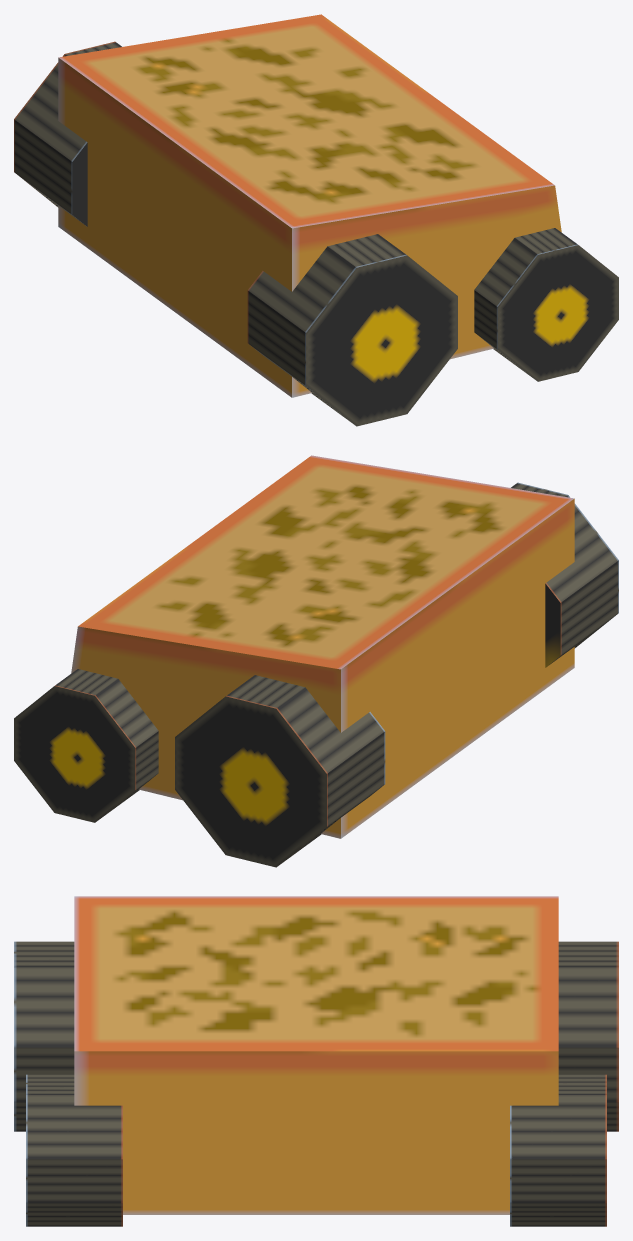
Rendered from Truck.obj.
3 views of the same model, one above another, from view 1: azimuth 30°, elevation 25°; view 2: azimuth 150°, elevation 25°; view 3: azimuth 270°, elevation 25° (orthographic). The views are drawn at different scales.
Parts seen in each view (by area): view 1: Truck; view 2: Truck; view 3: Truck.
Part boxes in pixels (x1=…): Truck: x1=14, y1=14, x2=618, y2=426; Truck: x1=14, y1=455, x2=618, y2=867; Truck: x1=14, y1=896, x2=618, y2=1226.
Bounding box in the file's own units: 3.94 × 2.25 × 6.25.
Materials: 1 (1 with a texture image).
